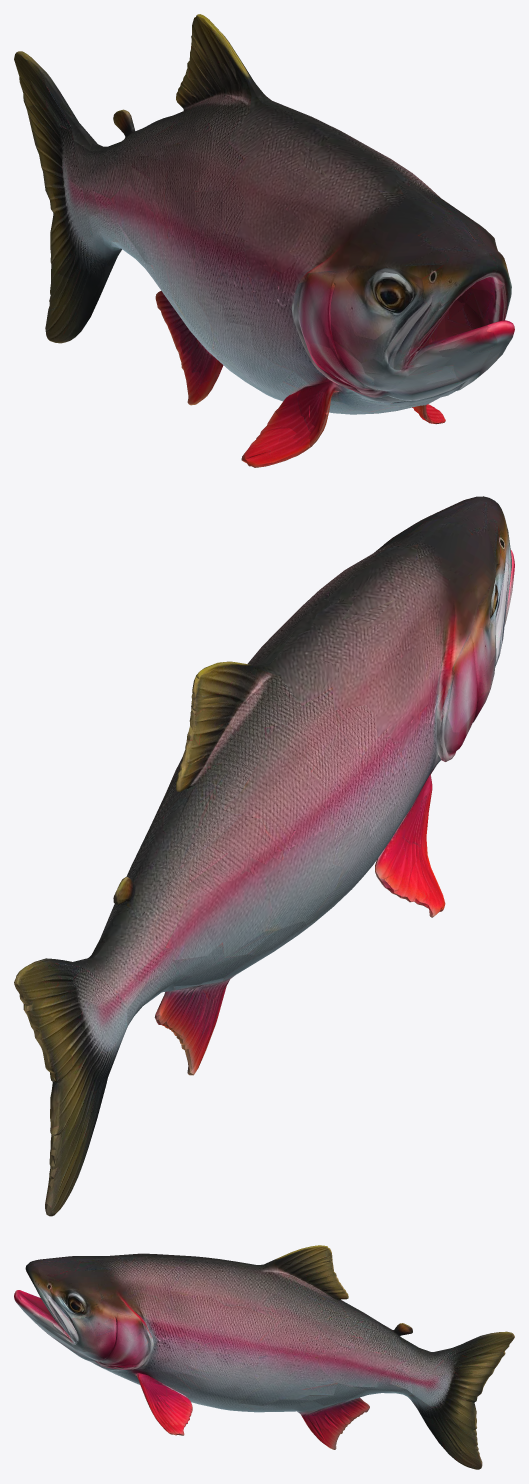
Rendered from salmone.glb.
3 views of the same model, one above another, from view 1: azimuth 30°, elevation 25°; view 2: azimuth 150°, elevation 25°; view 3: azimuth 270°, elevation 25° (orthographic). The views are drawn at different scales.
Bounding box in the file's own units: 0.4421 × 0.9375 × 1.9.
1 material, 1 textured.
